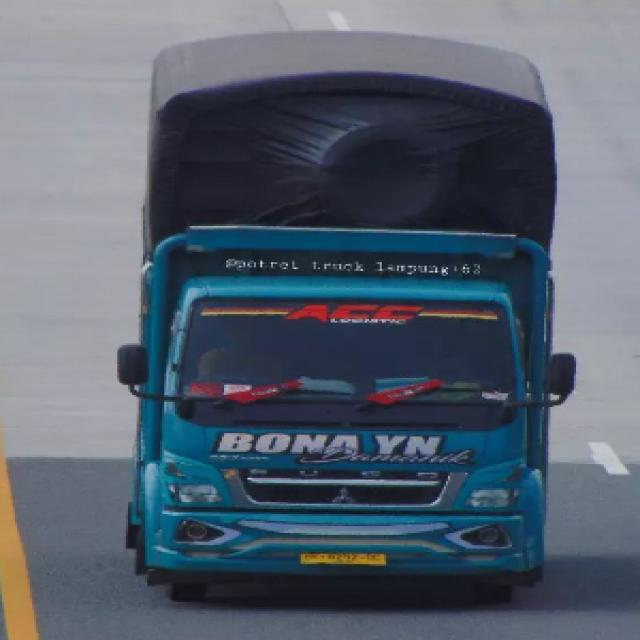Truck: (96, 24, 588, 603)
